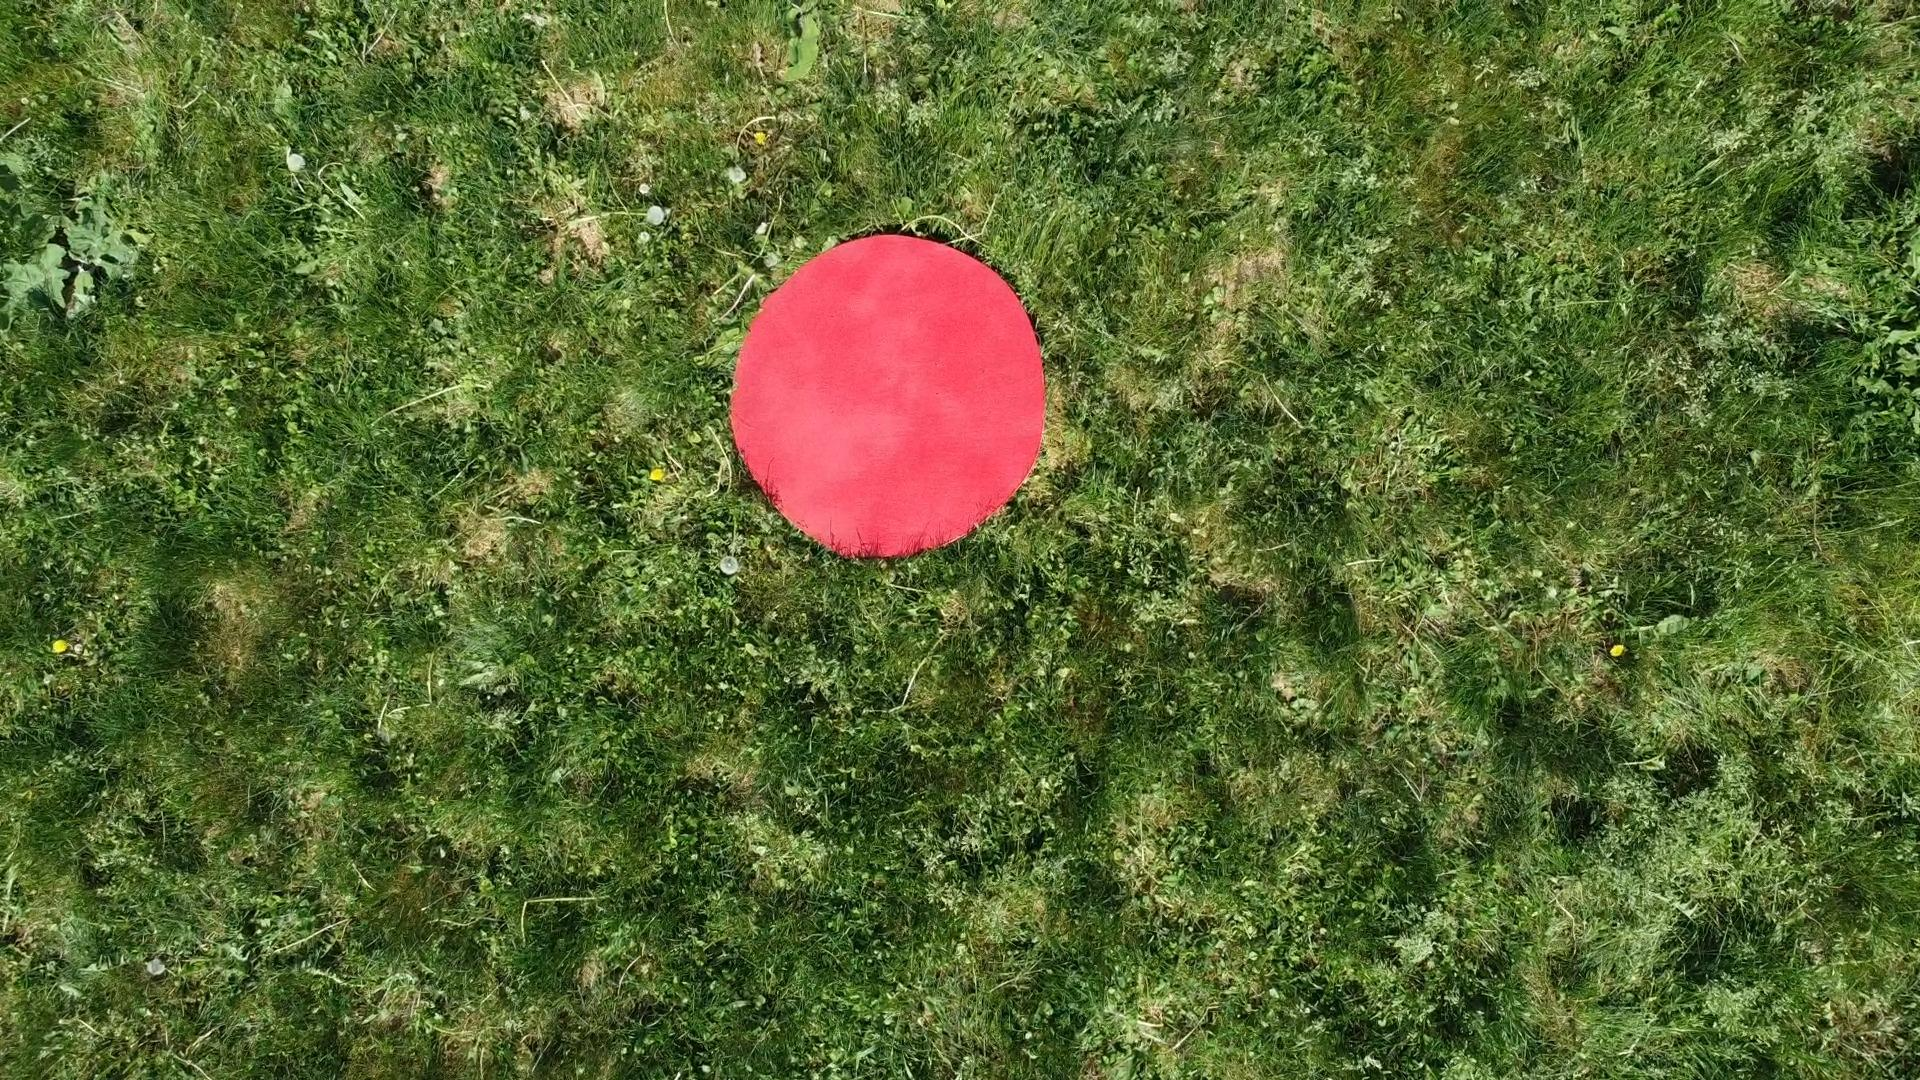Red: (720, 227, 1065, 568)
